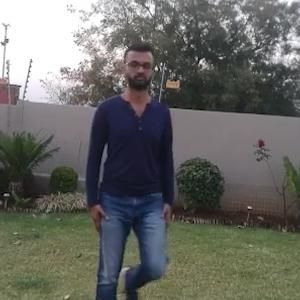follow: (91, 41, 185, 299)
